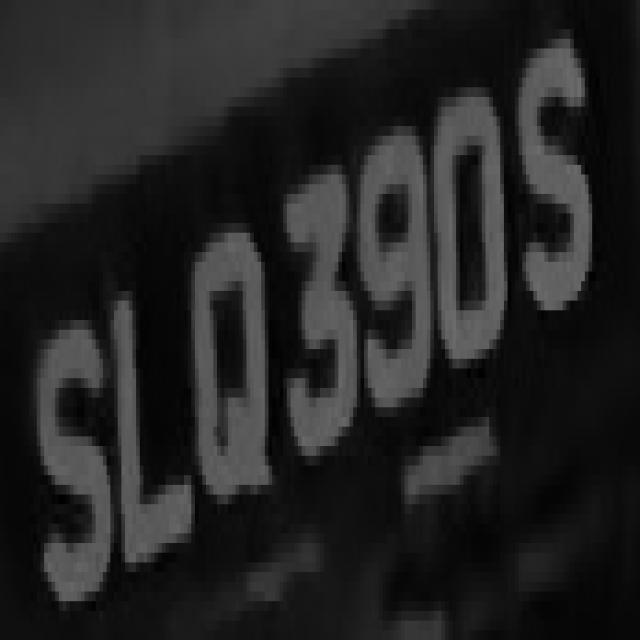0: (426, 78, 518, 358)
3: (272, 155, 357, 456)
9: (346, 107, 441, 436)
L: (103, 242, 199, 611)
Q: (176, 194, 265, 514)
S: (511, 0, 600, 349), (29, 301, 114, 601)
